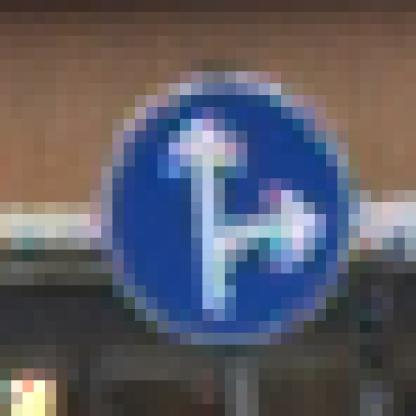Straight or Right: (69, 61, 350, 358)
